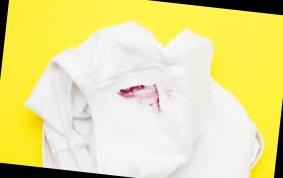lipstick: (115, 77, 164, 115)
